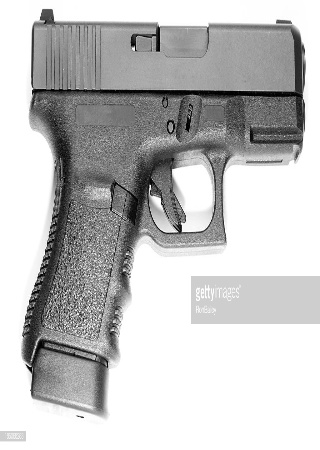handgun: (21, 1, 306, 416)
